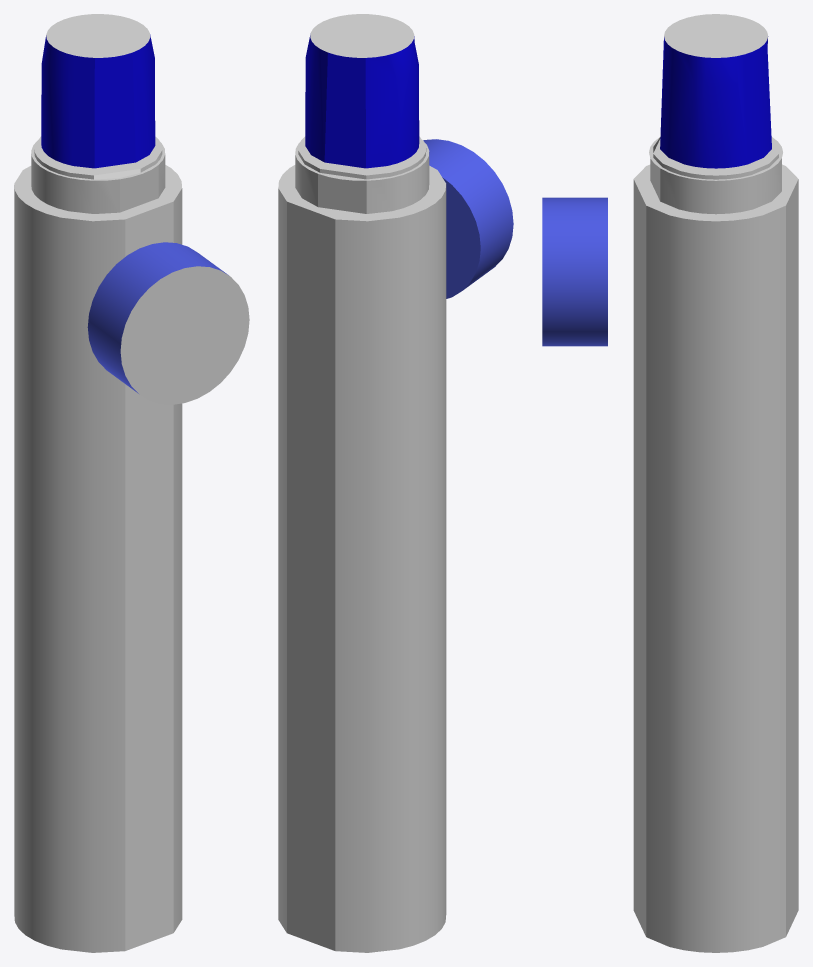
The model's file is Termometer_Machine.fbx.
3 renders of one model, left to right at view 1: azimuth 30°, elevation 25°; view 2: azimuth 150°, elevation 25°; view 3: azimuth 270°, elevation 25°, orthographic.
Visible parts, largest first — view 1: Cylinder.033; view 2: Cylinder.033; view 3: Cylinder.033.
Part boxes in pixels (x1,y1,x2,y2): Cylinder.033: [14, 14, 249, 952]; Cylinder.033: [278, 14, 513, 952]; Cylinder.033: [542, 14, 798, 952].
Size of the model in its own units: 0.6421 by 3.71 by 0.978.
